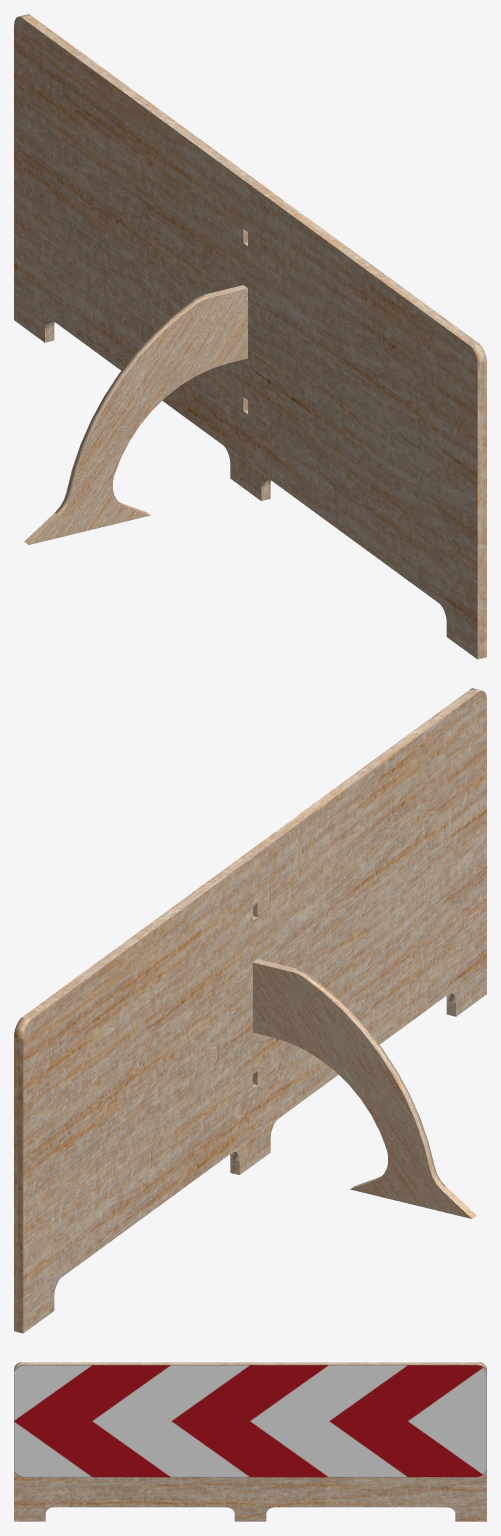
File: Abbiegeschild_gross_links.dae
3 renders of one model, top to bottom at view 1: azimuth 30°, elevation 25°; view 2: azimuth 150°, elevation 25°; view 3: azimuth 270°, elevation 25°, orthographic. The views are drawn at different scales.
Visible parts, largest first — view 1: Body3, Body1_001; view 2: Body3, Body1_001; view 3: Body3.
Part boxes in pixels (<box>): Body3: <box>14,14,486,659</box>; Body1_001: <box>24,285,247,544</box>; Body3: <box>14,688,486,1333</box>; Body1_001: <box>253,959,476,1218</box>; Body3: <box>14,1362,486,1521</box>.
Bounding box in the file's own units: 85.5 × 300 × 110.
Materials: 2 (2 with a texture image).
